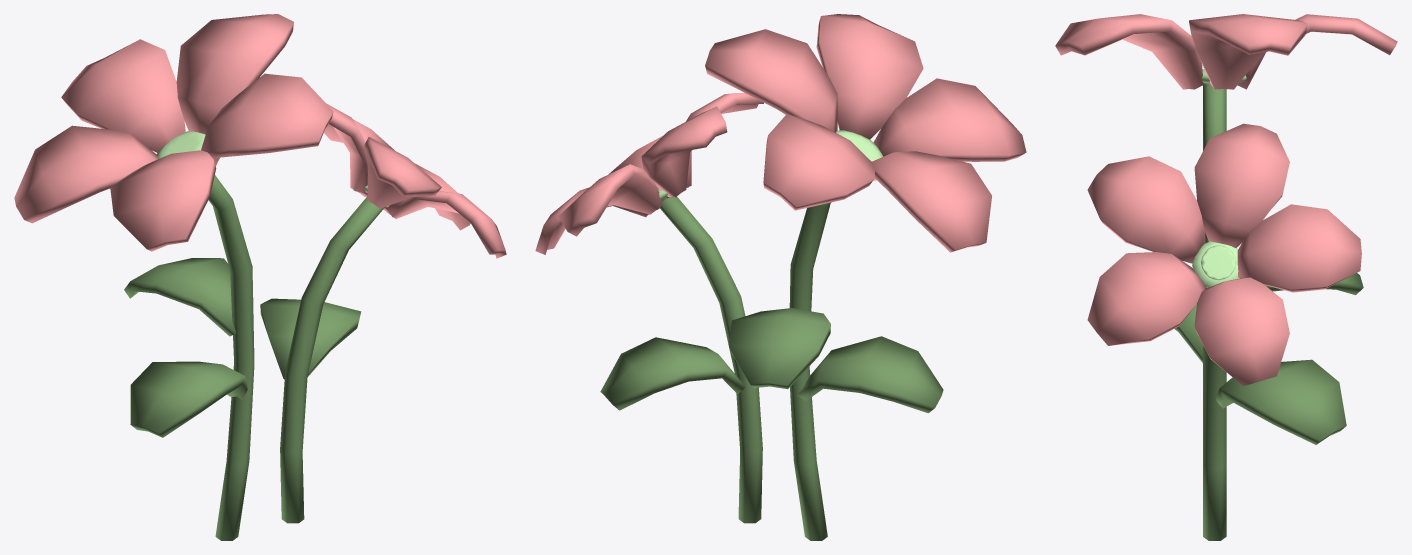
File: fragariaflower_3.fbx
3 views of the same model, side by side, from view 1: azimuth 30°, elevation 25°; view 2: azimuth 150°, elevation 25°; view 3: azimuth 270°, elevation 25° (orthographic). The views are drawn at different scales.
Parts seen in each view (by area): view 1: fragaria flower 3; view 2: fragaria flower 3; view 3: fragaria flower 3.
Boxes of the visible parts, box(x1,y1,x2,y2) form: fragaria flower 3: box(14, 14, 506, 540); fragaria flower 3: box(535, 14, 1026, 540); fragaria flower 3: box(1055, 14, 1397, 540).
Size of the model in its own units: 46.77 by 49.57 by 30.16.
